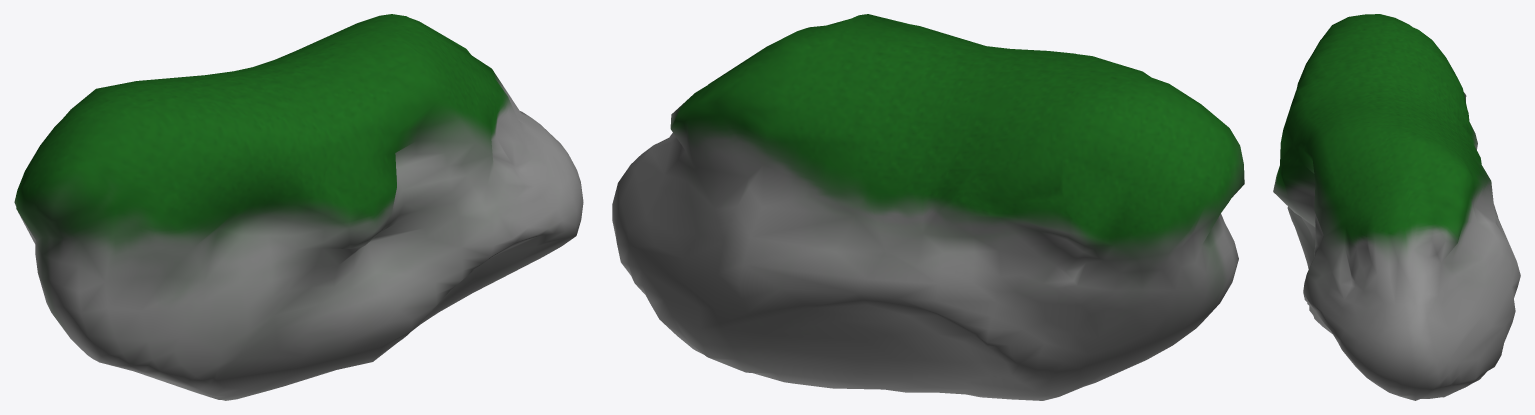
Rendered from Musgo.fbx.
3 views of the same model, side by side, from view 1: azimuth 30°, elevation 25°; view 2: azimuth 150°, elevation 25°; view 3: azimuth 270°, elevation 25° (orthographic). The views are drawn at different scales.
Visible parts, largest first — view 1: Musgo; view 2: Musgo; view 3: Musgo.
Boxes of the visible parts, x1=… form: Musgo: x1=14, y1=14, x2=583, y2=400; Musgo: x1=612, y1=14, x2=1244, y2=400; Musgo: x1=1273, y1=14, x2=1520, y2=400.
Size of the model in its own units: 227 by 127 by 110.
